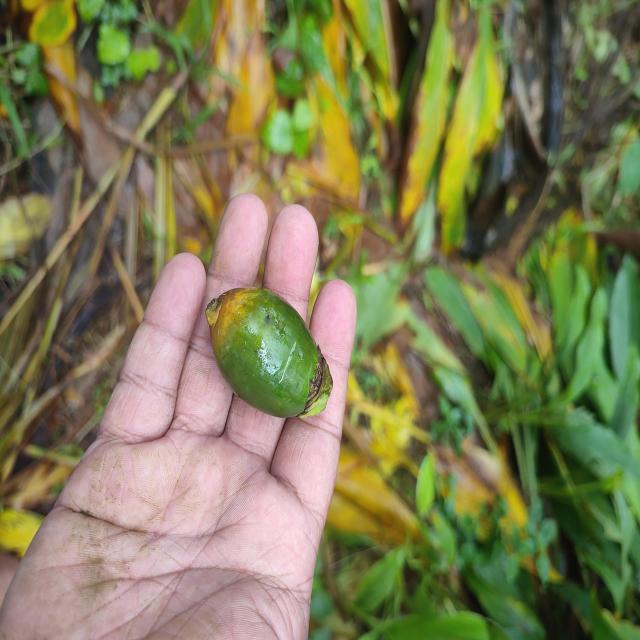damaged: (204, 288, 332, 420)
